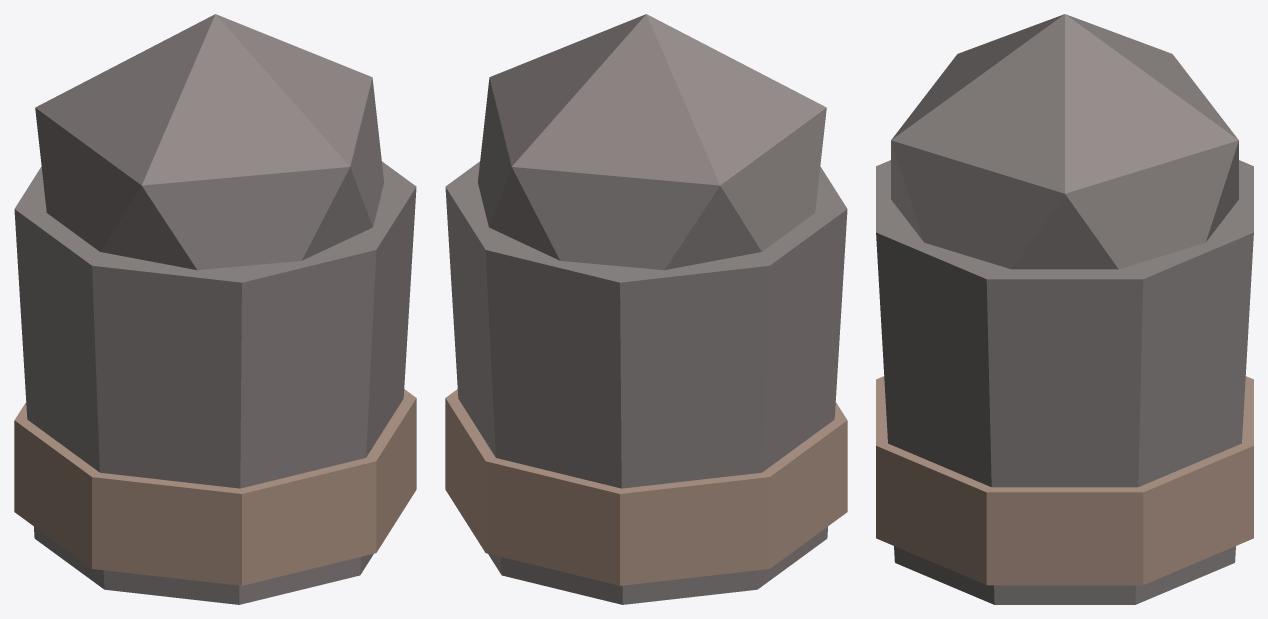
The model's file is inf_hocker_lower_arm.fbx.
3 views of the same model, side by side, from view 1: azimuth 30°, elevation 25°; view 2: azimuth 150°, elevation 25°; view 3: azimuth 270°, elevation 25° (orthographic).
Parts seen in each view (by area): view 1: inf_hocker_lower_arm; view 2: inf_hocker_lower_arm; view 3: inf_hocker_lower_arm.
Part boxes in pixels (x1=…): inf_hocker_lower_arm: x1=14, y1=14, x2=416, y2=604; inf_hocker_lower_arm: x1=445, y1=14, x2=847, y2=604; inf_hocker_lower_arm: x1=876, y1=14, x2=1253, y2=604.
Size of the model in its own units: 73.91 by 112 by 73.91.
